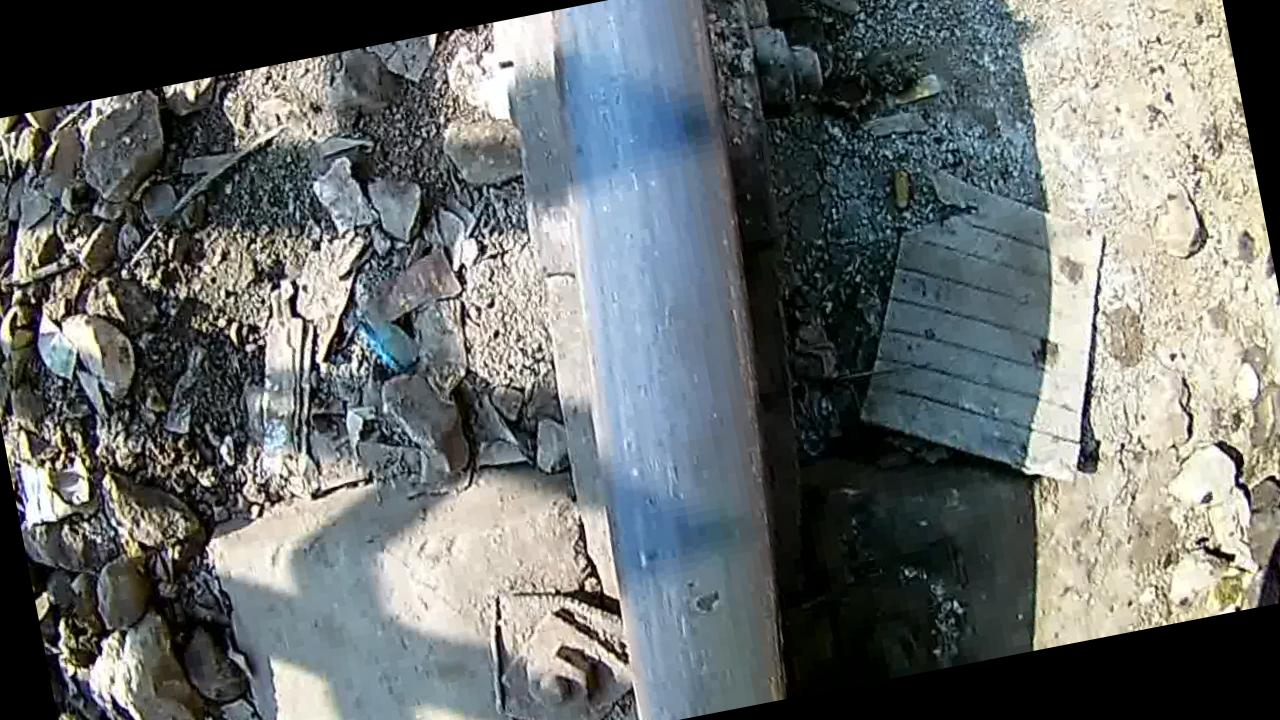crack: (571, 271, 818, 720)
